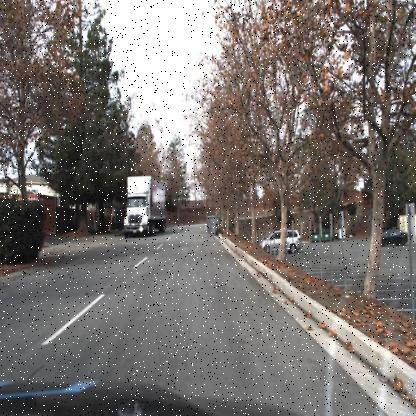car: (257, 227, 304, 254), (372, 227, 410, 248)
truck: (122, 174, 166, 240)
